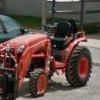Tractor: (6, 20, 99, 99)
